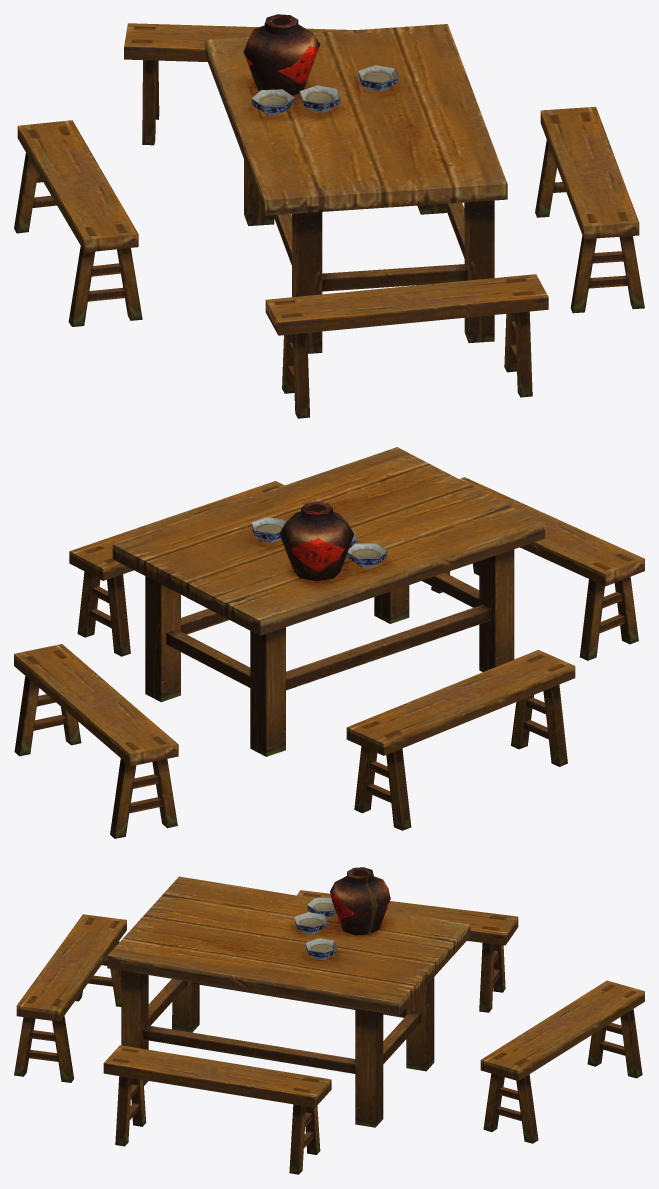
Rendered from xs_Item_baozi_2.FBX.
3 views of the same model, one above another, from view 1: azimuth 30°, elevation 25°; view 2: azimuth 150°, elevation 25°; view 3: azimuth 270°, elevation 25° (orthographic). The views are drawn at different scales.
Parts seen in each view (by area): view 1: xs_Item_baozi_2; view 2: xs_Item_baozi_2; view 3: xs_Item_baozi_2.
Boxes of the visible parts, left/top/right/bottom form: xs_Item_baozi_2: left=14, top=14, right=644, bottom=418; xs_Item_baozi_2: left=14, top=447, right=644, bottom=838; xs_Item_baozi_2: left=14, top=867, right=644, bottom=1174.
Size of the model in its own units: 609 by 254 by 778.
